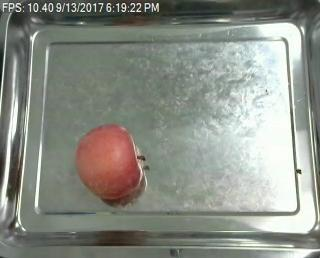apple: (74, 122, 146, 204)
